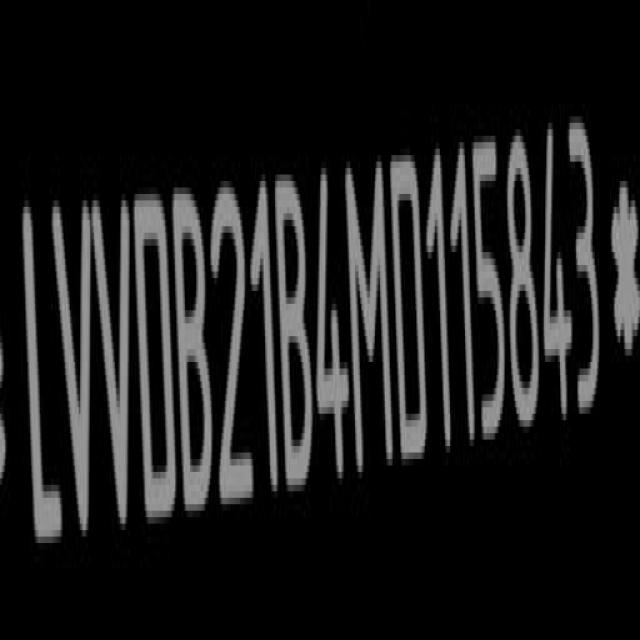1: (254, 178, 279, 511), (453, 138, 476, 458), (429, 138, 451, 463)
2: (213, 182, 253, 519)
3: (573, 111, 603, 426)
4: (316, 163, 350, 492), (543, 118, 574, 434)
5: (474, 132, 507, 447)
8: (508, 129, 540, 442)
B: (178, 186, 216, 528), (278, 171, 314, 500)
D: (134, 189, 175, 536), (390, 151, 428, 462)
L: (18, 196, 58, 559)
M: (349, 154, 394, 479)
V: (50, 196, 96, 551), (96, 188, 139, 544)
